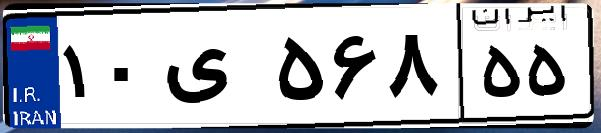0: (110, 28, 158, 98)
1: (57, 26, 110, 100)
5: (270, 28, 330, 110), (475, 38, 525, 113), (525, 38, 570, 115)
6: (330, 28, 385, 110)
8: (385, 28, 445, 110)
ی: (158, 20, 270, 120)
